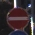No entry: (5, 5, 30, 30)
